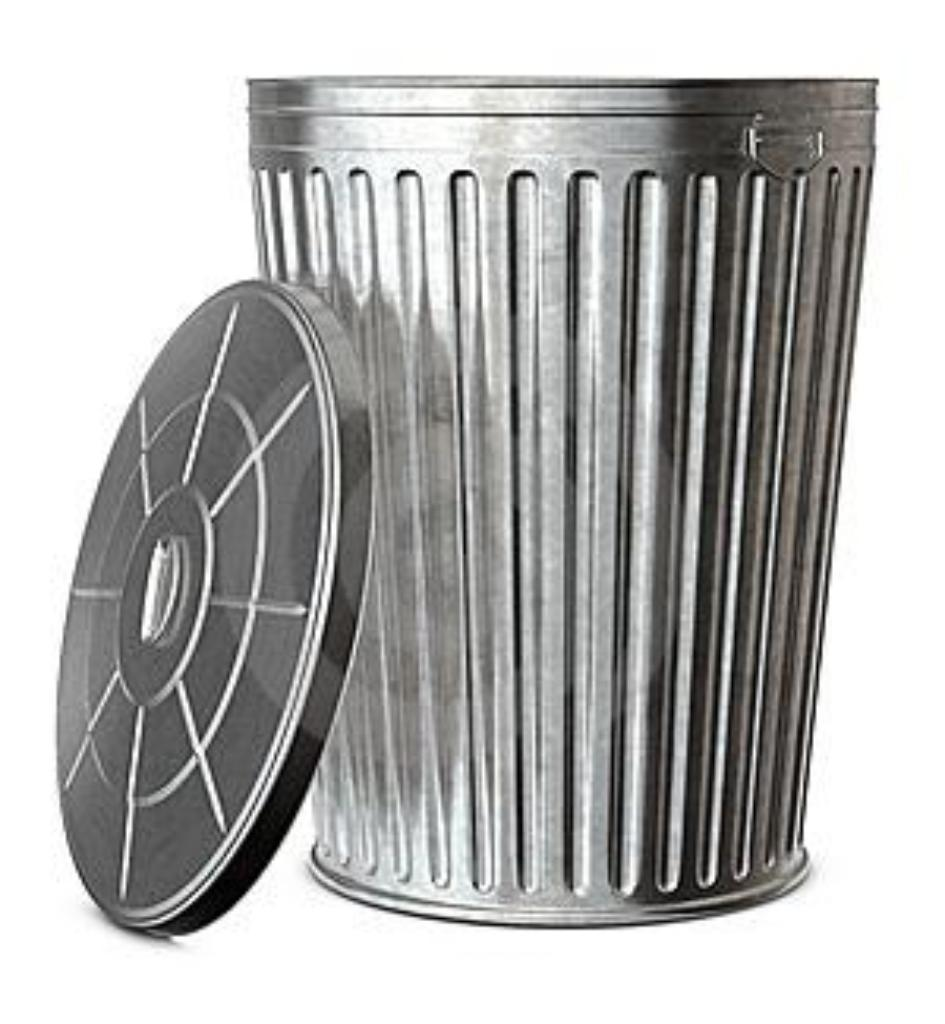dustbin: (246, 71, 884, 914)
